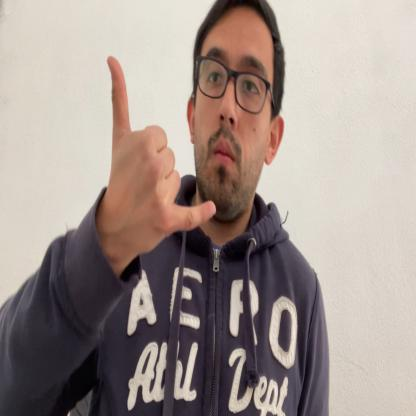Y: (106, 55, 217, 257)
